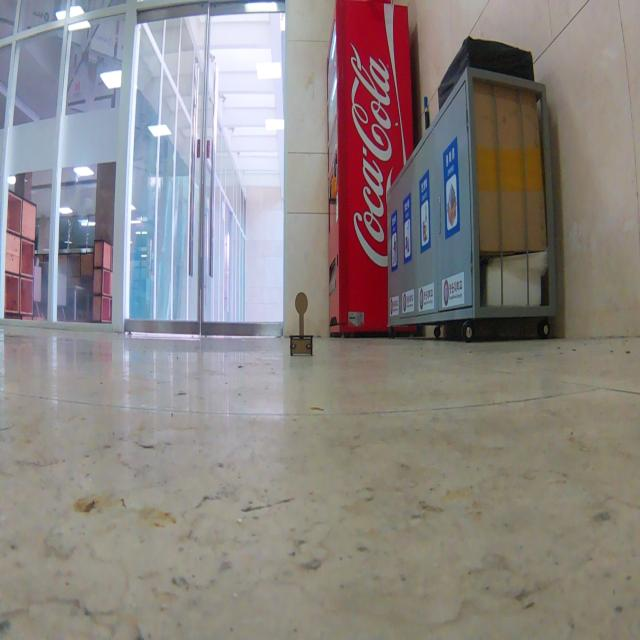target: (290, 291, 314, 356)
